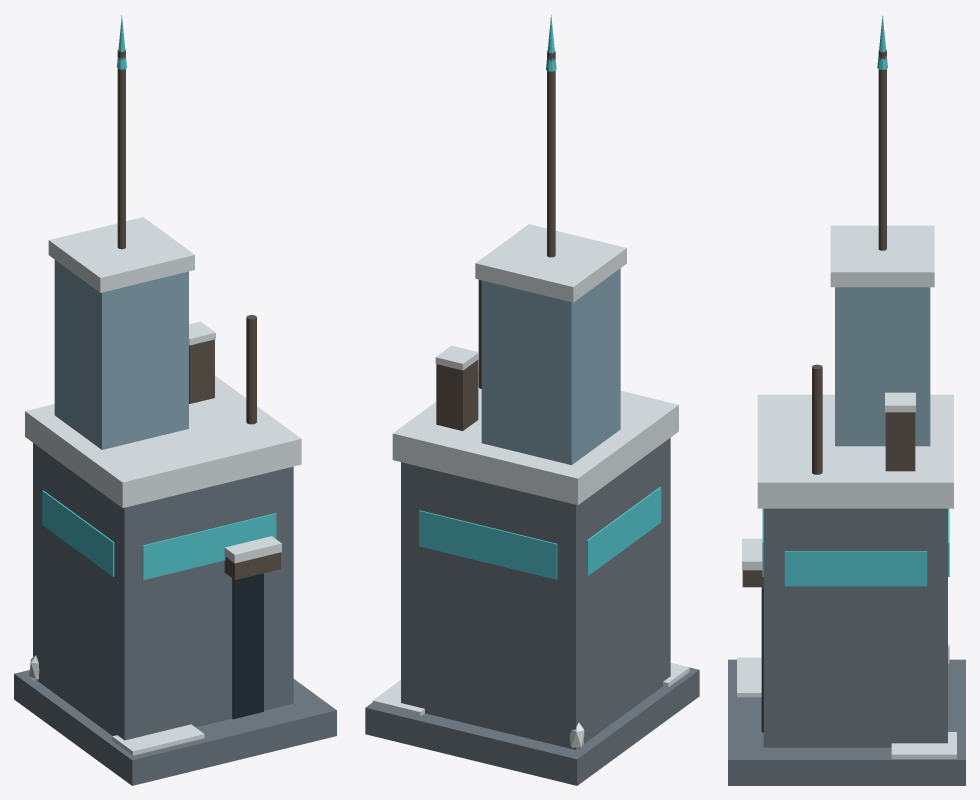
Rendered from research_center.glb.
3 views of the same model, side by side, from view 1: azimuth 30°, elevation 25°; view 2: azimuth 150°, elevation 25°; view 3: azimuth 270°, elevation 25° (orthographic). The views are drawn at different scales.
Parts seen in each view (by area): view 1: research_center; view 2: research_center; view 3: research_center.
Part boxes in pixels (x1,y1,x2,y2): research_center: (14,15,336,785); research_center: (365,15,699,785); research_center: (728,15,965,785).
Bounding box in the file's own units: 1 × 3.27 × 1.
Materials: 1 (1 with a texture image).
